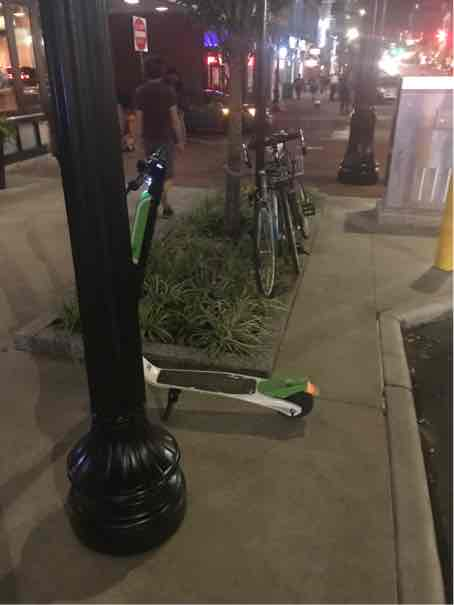scooter: (108, 132, 331, 416)
